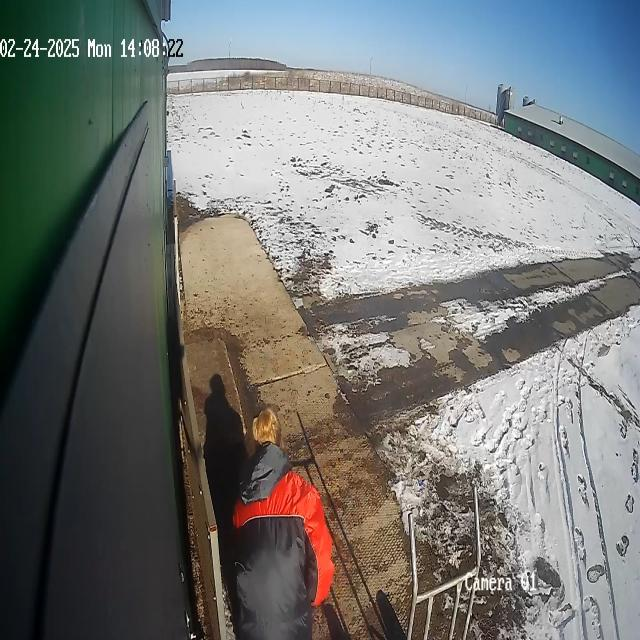Red uniform: (229, 406, 336, 636)
